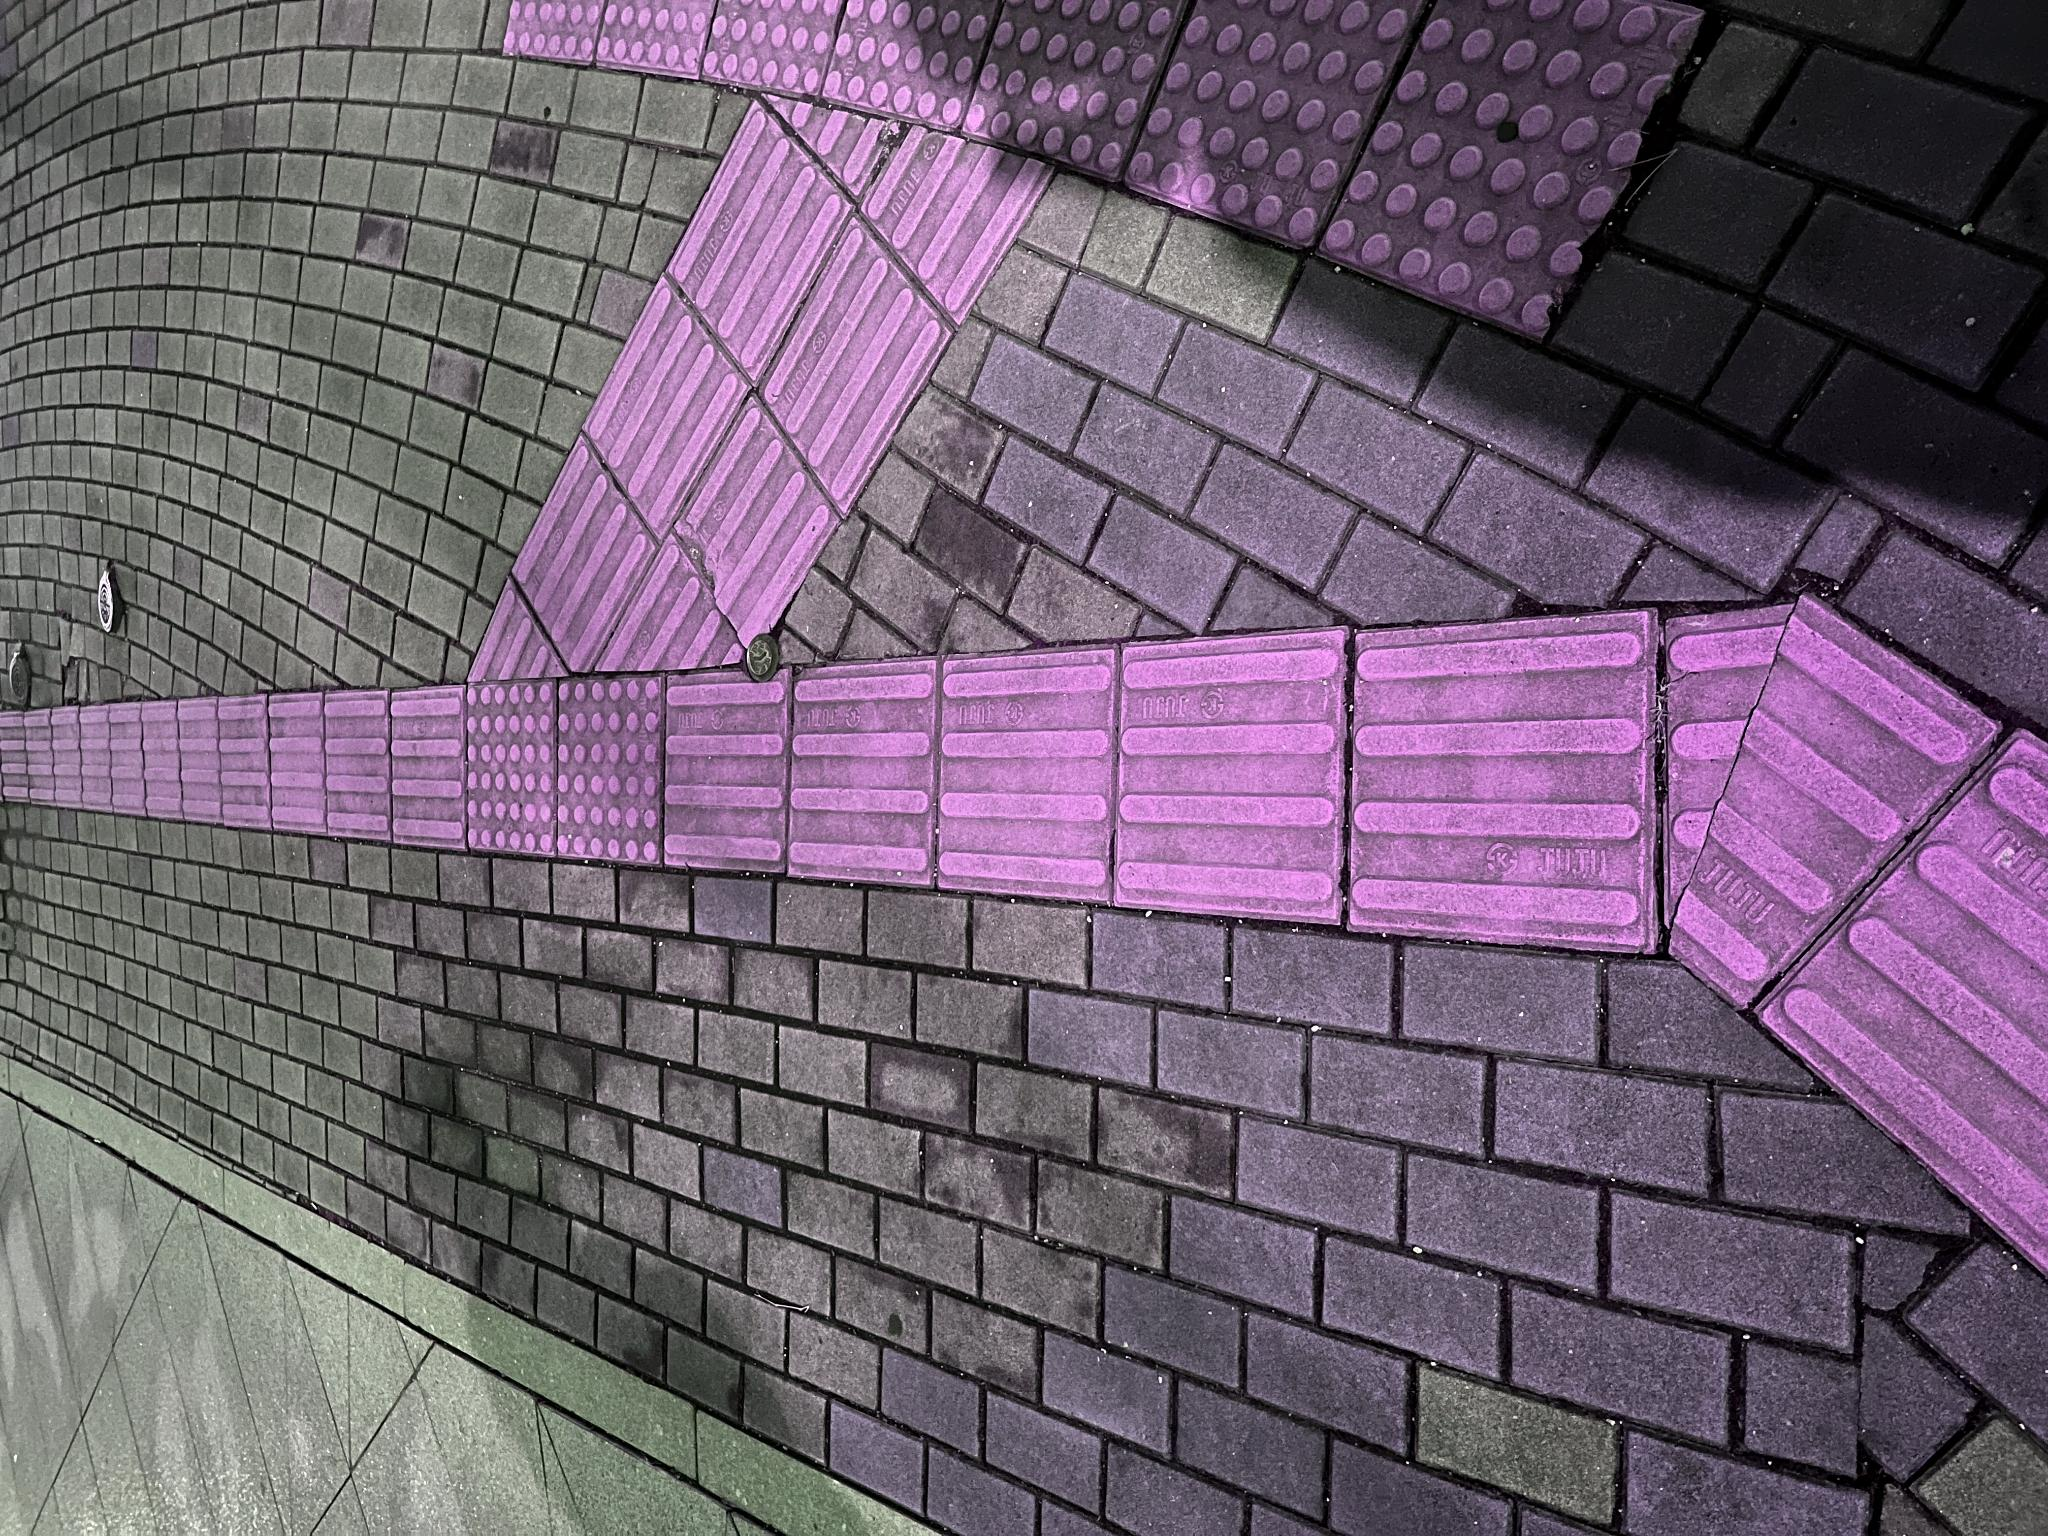Stop block normal: (672, 558, 861, 660), (681, 466, 855, 555)
Straight block broken: (882, 674, 1140, 837)
Straight block normal: (613, 1118, 903, 1339), (597, 1347, 918, 1536), (1021, 758, 1317, 949), (1151, 666, 1432, 850), (635, 939, 887, 1113), (998, 586, 1256, 747), (651, 789, 876, 934), (664, 666, 866, 787), (689, 390, 847, 463), (697, 324, 847, 390)
